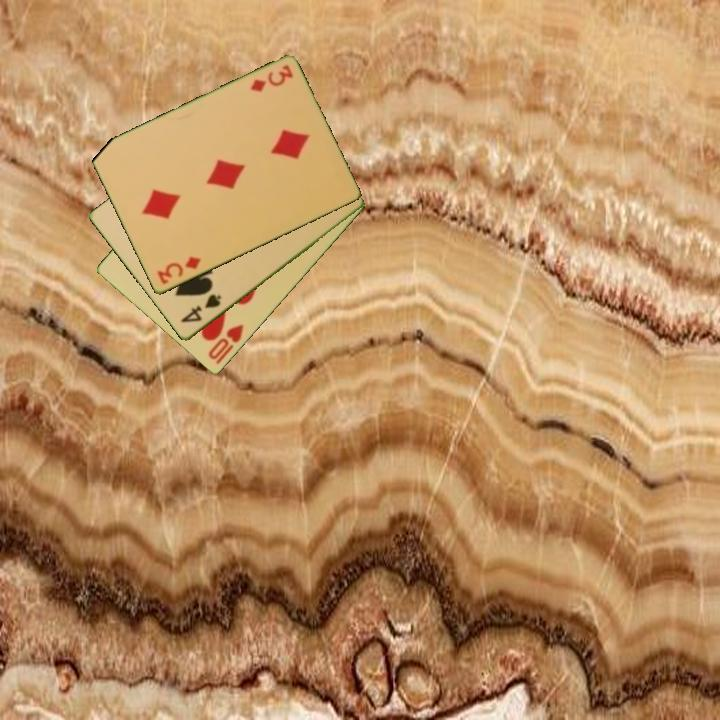10h: (205, 321, 247, 368)
3d: (153, 253, 204, 288), (247, 61, 296, 95)
4s: (177, 291, 224, 326)
